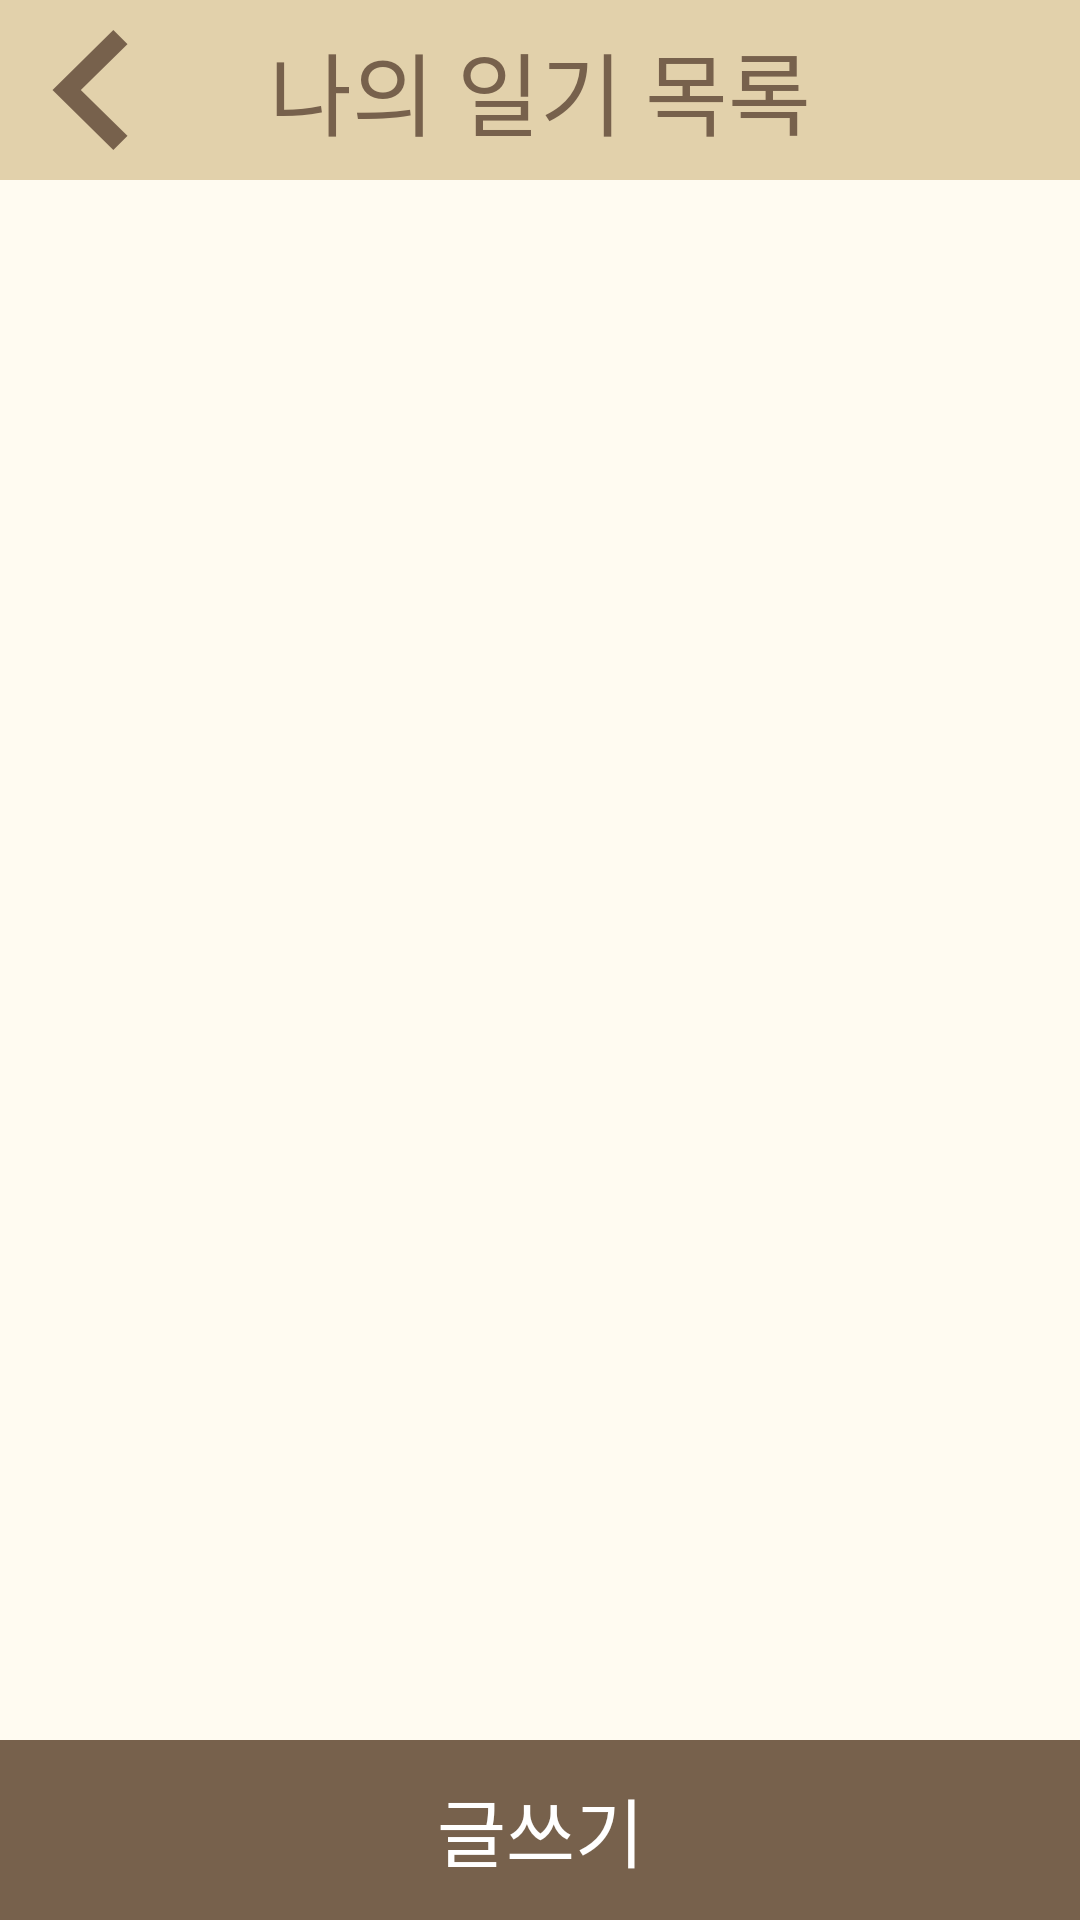

Screen size 1080 × 1920. Icon name, then its box in pixels as (x1, y1, x2, y2):
back: (53, 30, 127, 150)
